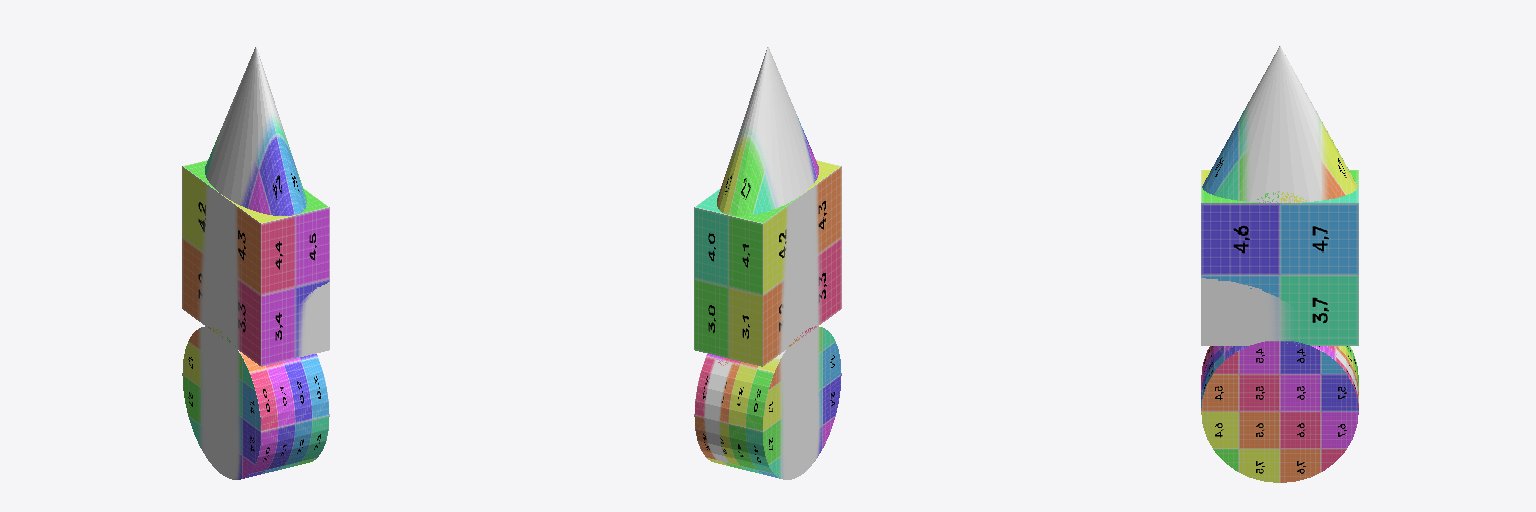
The picture shows the model from 3 angles: view 1: azimuth 30°, elevation 25°; view 2: azimuth 150°, elevation 25°; view 3: azimuth 270°, elevation 25°; orthographic projection.
Visible parts, largest first — view 1: 立方体; view 2: 立方体; view 3: 立方体.
Boxes of the visible parts, <box> form: 立方体: <box>182,47,329,479</box>; 立方体: <box>694,47,841,479</box>; 立方体: <box>1201,46,1358,482</box>.
Bounding box in the file's own units: 1 × 5.89 × 2.
1 materials, 1 textured.